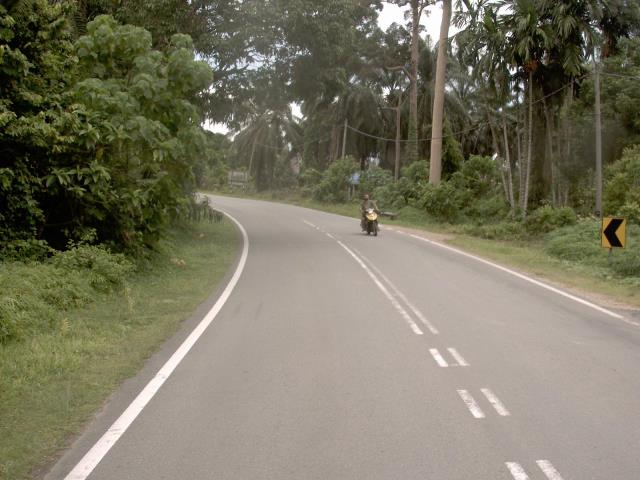traffic_sign: (595, 210, 633, 256)
